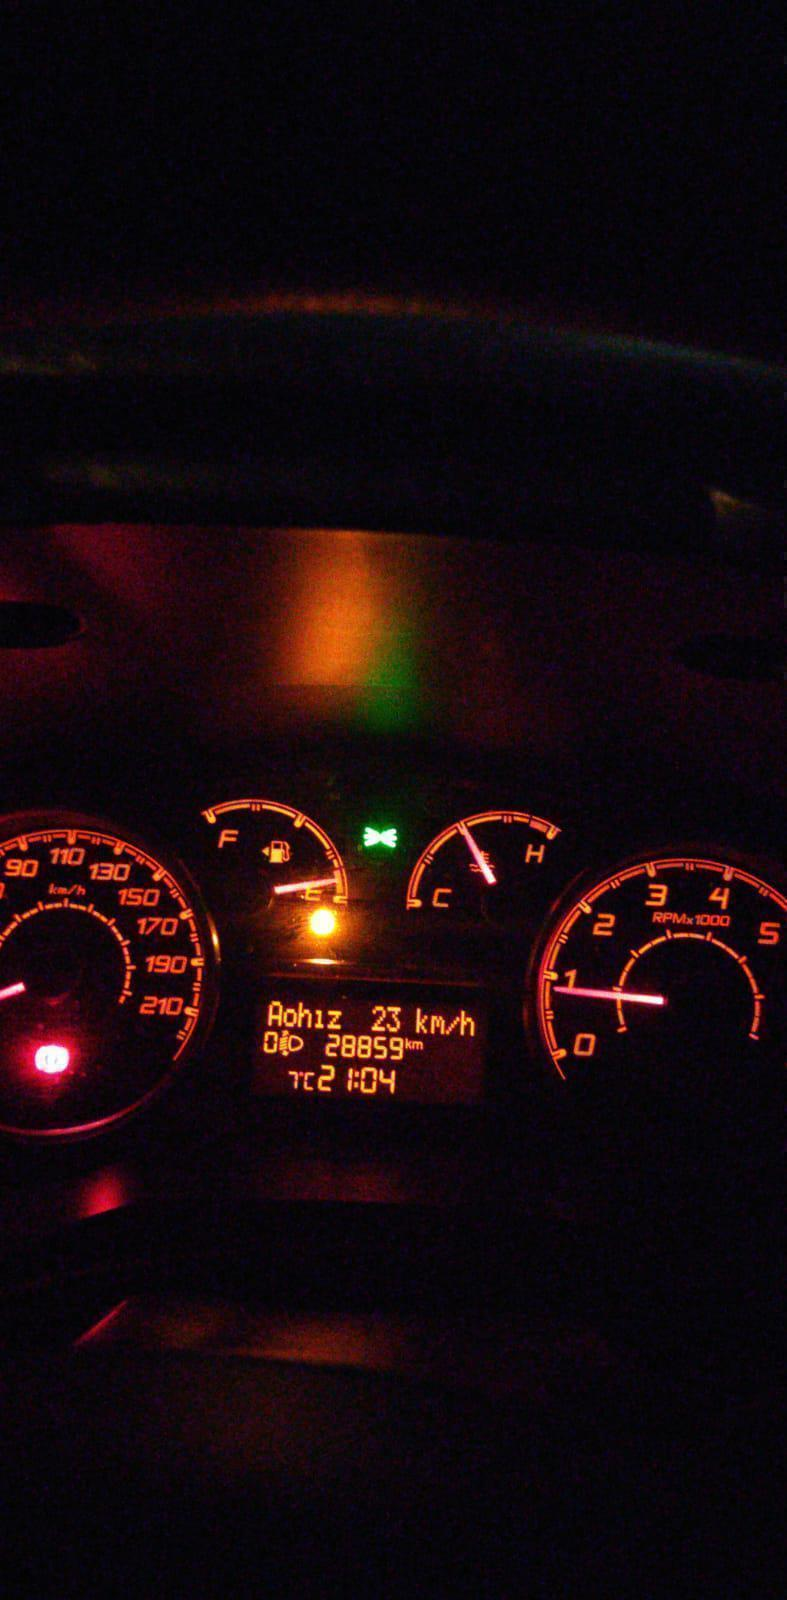0: (361, 1066, 378, 1094), (263, 1031, 278, 1054)
1: (345, 1065, 354, 1094)
2: (317, 1063, 335, 1096), (371, 1003, 385, 1031), (325, 1032, 339, 1058)
3: (386, 1004, 402, 1031)
4: (378, 1067, 397, 1094)
5: (374, 1033, 388, 1060)
7: (288, 1068, 298, 1091)
8: (340, 1032, 356, 1059), (357, 1034, 372, 1059)
X: (297, 1000, 313, 1029), (461, 1009, 476, 1039), (267, 997, 282, 1026), (430, 1011, 445, 1036), (415, 1004, 427, 1037), (303, 1068, 315, 1094), (283, 1007, 298, 1028), (328, 1008, 342, 1030), (446, 1015, 459, 1035), (314, 1007, 325, 1030), (353, 1067, 359, 1090), (404, 1036, 412, 1052), (412, 1039, 423, 1051)
odometer: (237, 985, 493, 1107)
